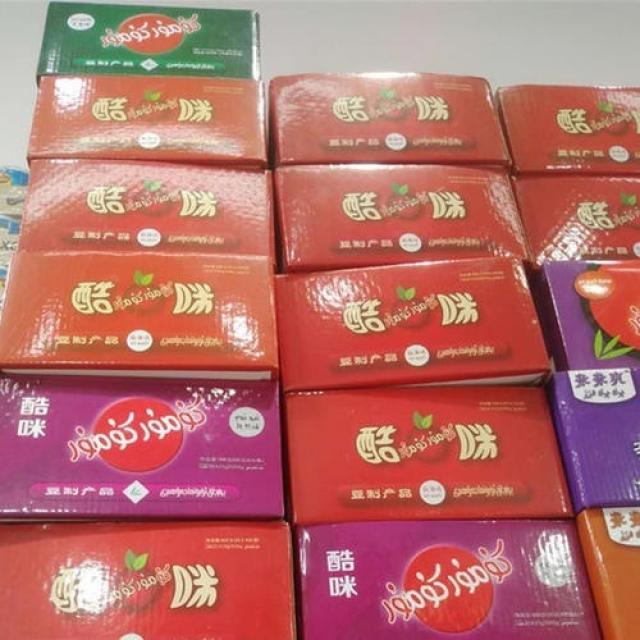box: (0, 371, 285, 524), (282, 388, 576, 527), (276, 257, 552, 393), (292, 520, 603, 639), (0, 251, 280, 380), (0, 522, 297, 639), (273, 164, 534, 283), (18, 160, 279, 271), (269, 72, 513, 175), (27, 77, 270, 172), (36, 1, 261, 90), (506, 166, 640, 274), (547, 367, 640, 516), (492, 83, 640, 175), (530, 259, 640, 370), (575, 507, 640, 639)
